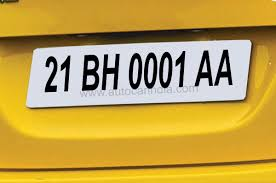number_plate: (26, 38, 257, 114)
